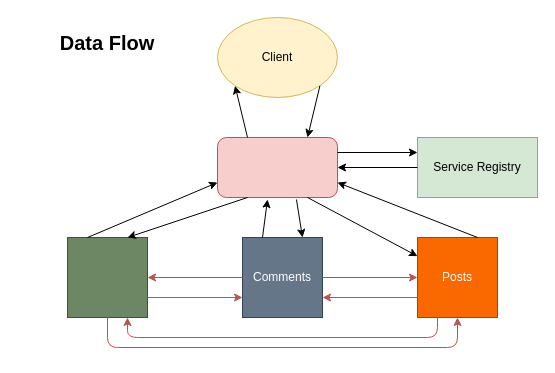
Some shapes in this 555 by 373 pixel diagram are drawn without their labels. The shapes that lost their labels are listed below. From the top down, each one's box as (x1, y1, x2, y2) in pixels, then its label:
(216, 136, 338, 198): API Gateway (Zuul & Auth)
(66, 236, 148, 318): Users
